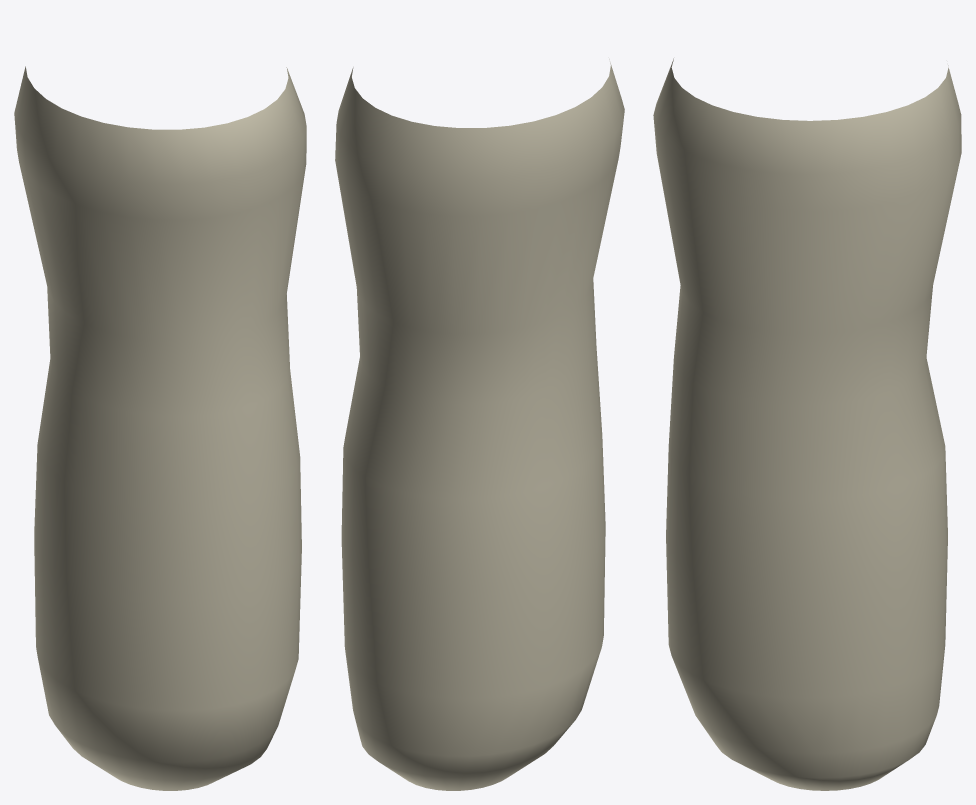
The model's file is rhand.gltf.
The picture shows the model from 3 angles, left to right: view 1: azimuth 30°, elevation 25°; view 2: azimuth 150°, elevation 25°; view 3: azimuth 270°, elevation 25°; orthographic projection.
Visible parts, largest first — view 1: lengan.008; view 2: lengan.008; view 3: lengan.008.
Boxes of the visible parts, x1=… form: lengan.008: x1=14, y1=66, x2=306, y2=790; lengan.008: x1=335, y1=59, x2=624, y2=790; lengan.008: x1=653, y1=58, x2=961, y2=790.
Bounding box in the file's own units: 0.082 × 0.2258 × 0.0896.
Materials: 1 (1 with a texture image).
